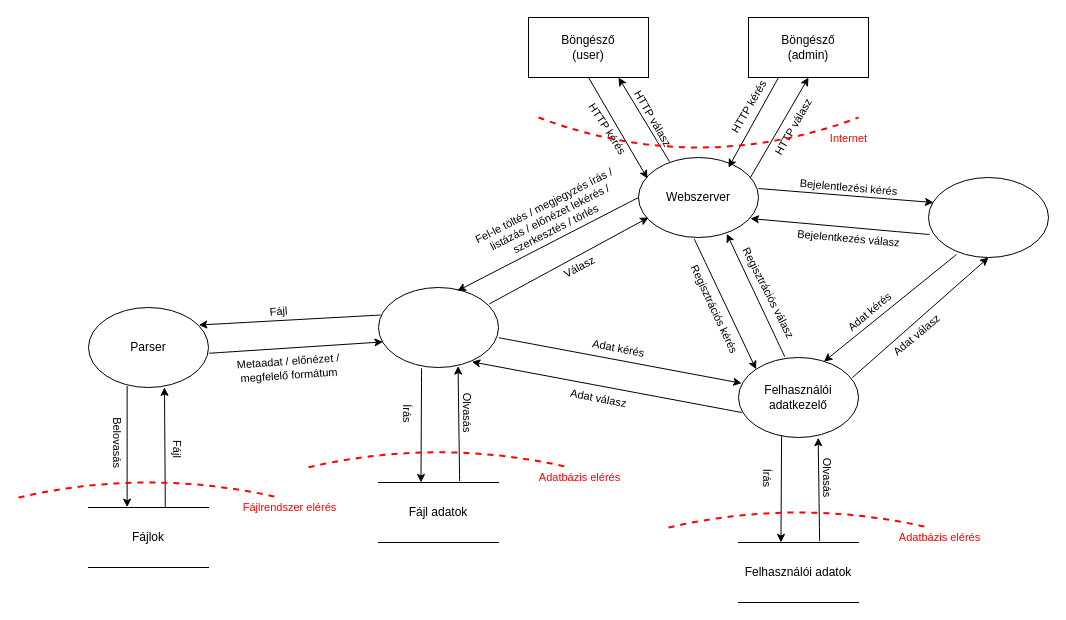
The diagram is 1066 pixels wide and 620 high, and some of its shapes have lost their labels. The shapes that lost their labels are listed below. From the top down, each one's centre as x and y in pixels, then its label:
(x=988, y=217): Autentikációs komponens
(x=438, y=327): Fájl kezelő
